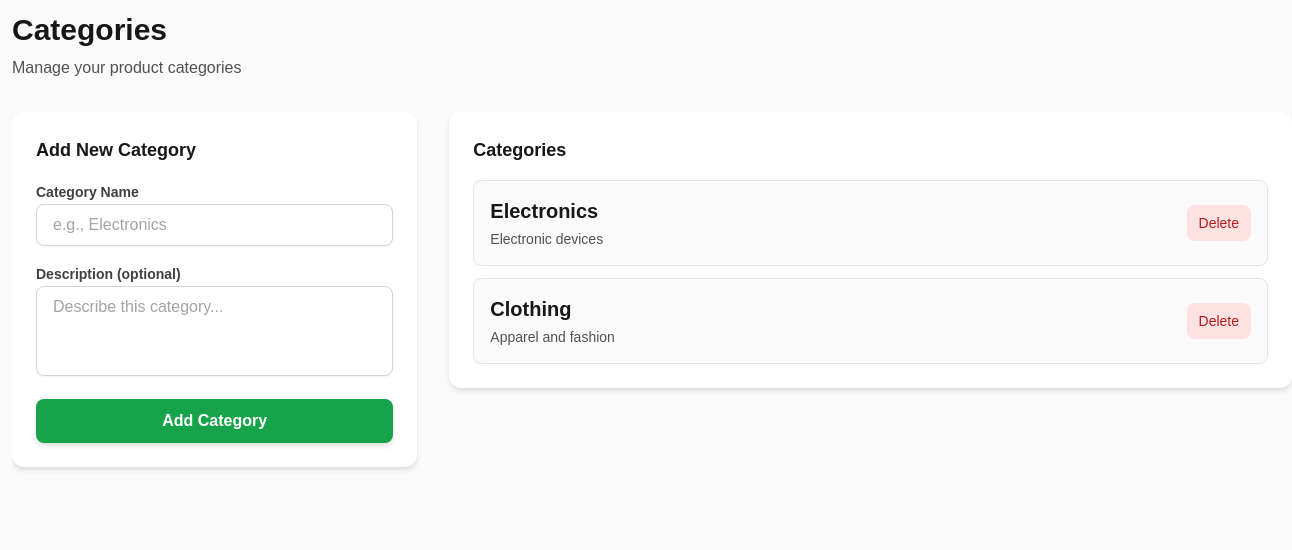
Test case: CategoriesList › should show error on delete failure
The width and height of the screenshot is (1292, 550).
Expected: the heading "Electronics" is shown, [490, 200, 598, 222]
Click the button "Delete" in the row of "Electronic devices": (1219, 223) [1186, 205, 1251, 241]
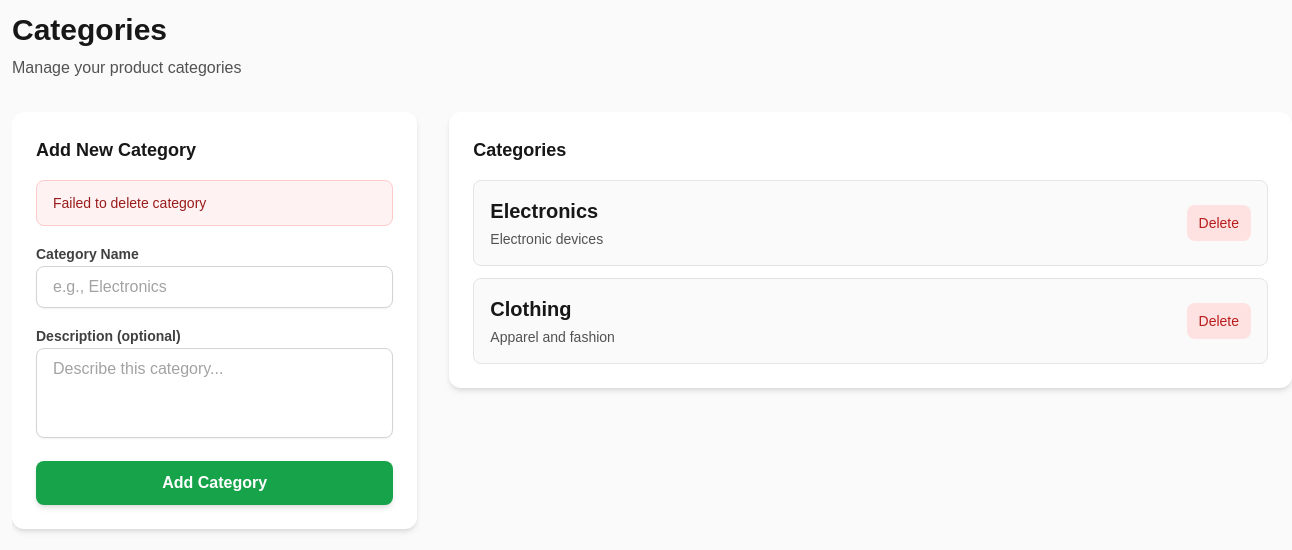
Result: the text "Failed to delete category" is shown at [36, 180, 393, 226]
